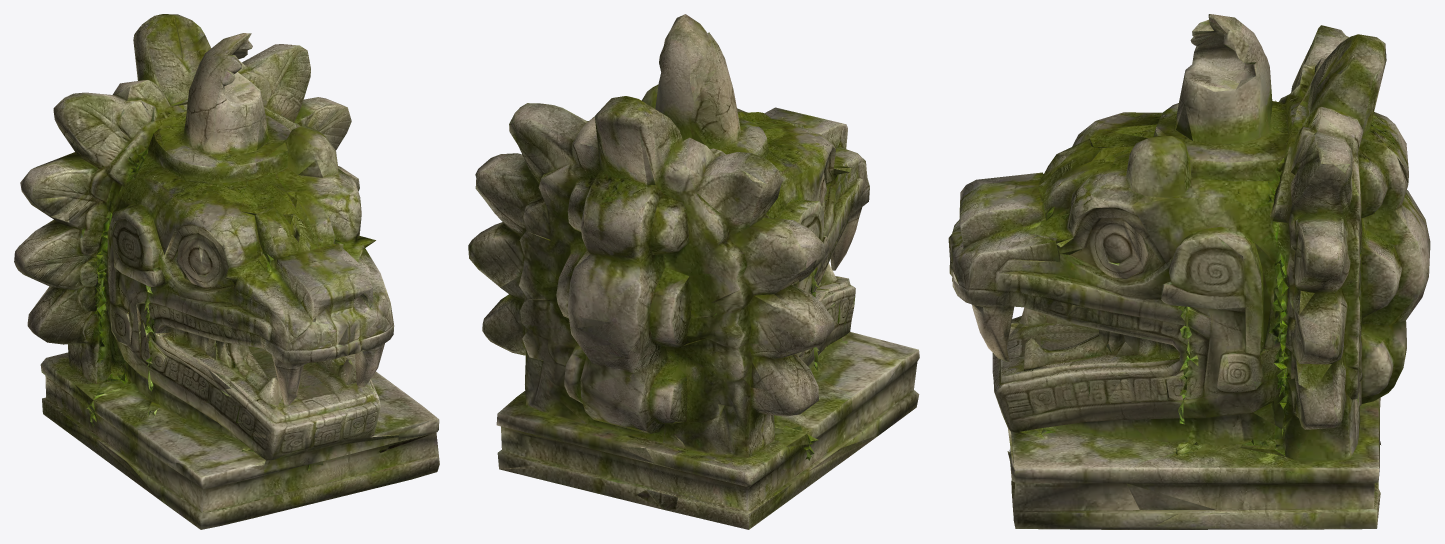
Rendered from 9dd00cff-205c-4271-8c3d-81f19a5e7312.glb.
3 views of the same model, side by side, from view 1: azimuth 30°, elevation 25°; view 2: azimuth 150°, elevation 25°; view 3: azimuth 270°, elevation 25° (orthographic). The views are drawn at different scales.
Visible parts, largest first — view 1: Mesh_0.002; view 2: Mesh_0.002; view 3: Mesh_0.002.
Boxes of the visible parts, x1=… form: Mesh_0.002: x1=14, y1=14, x2=439, y2=529; Mesh_0.002: x1=468, y1=14, x2=919, y2=529; Mesh_0.002: x1=948, y1=14, x2=1430, y2=529.
Bounding box in the file's own units: 1.75 × 2 × 1.91.
Materials: 1 (1 with a texture image).
